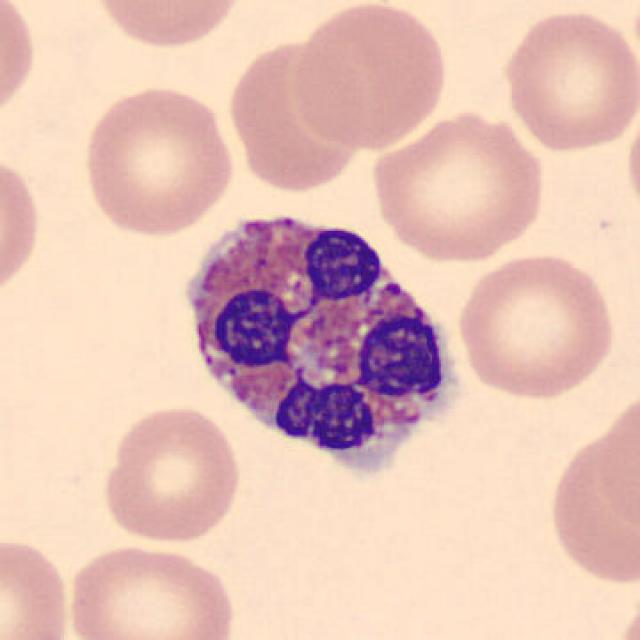Eosinophil: (172, 192, 473, 496)
RBC: (363, 108, 549, 264), (452, 249, 620, 402), (286, 0, 452, 152), (78, 81, 236, 240), (222, 30, 370, 199), (498, 5, 638, 157), (100, 400, 243, 547), (62, 539, 240, 640), (544, 411, 638, 592), (85, 0, 251, 51), (0, 530, 74, 640), (0, 146, 44, 310), (0, 0, 39, 130), (622, 92, 640, 229), (611, 587, 640, 640)
